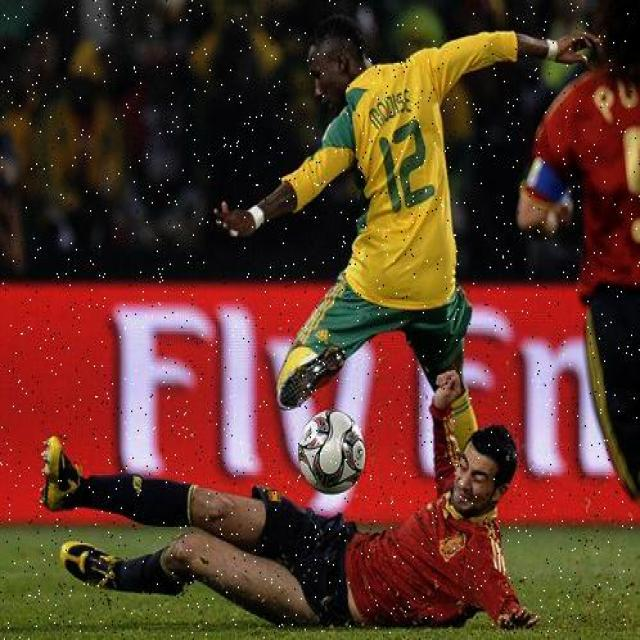fall: (50, 416, 530, 622)
